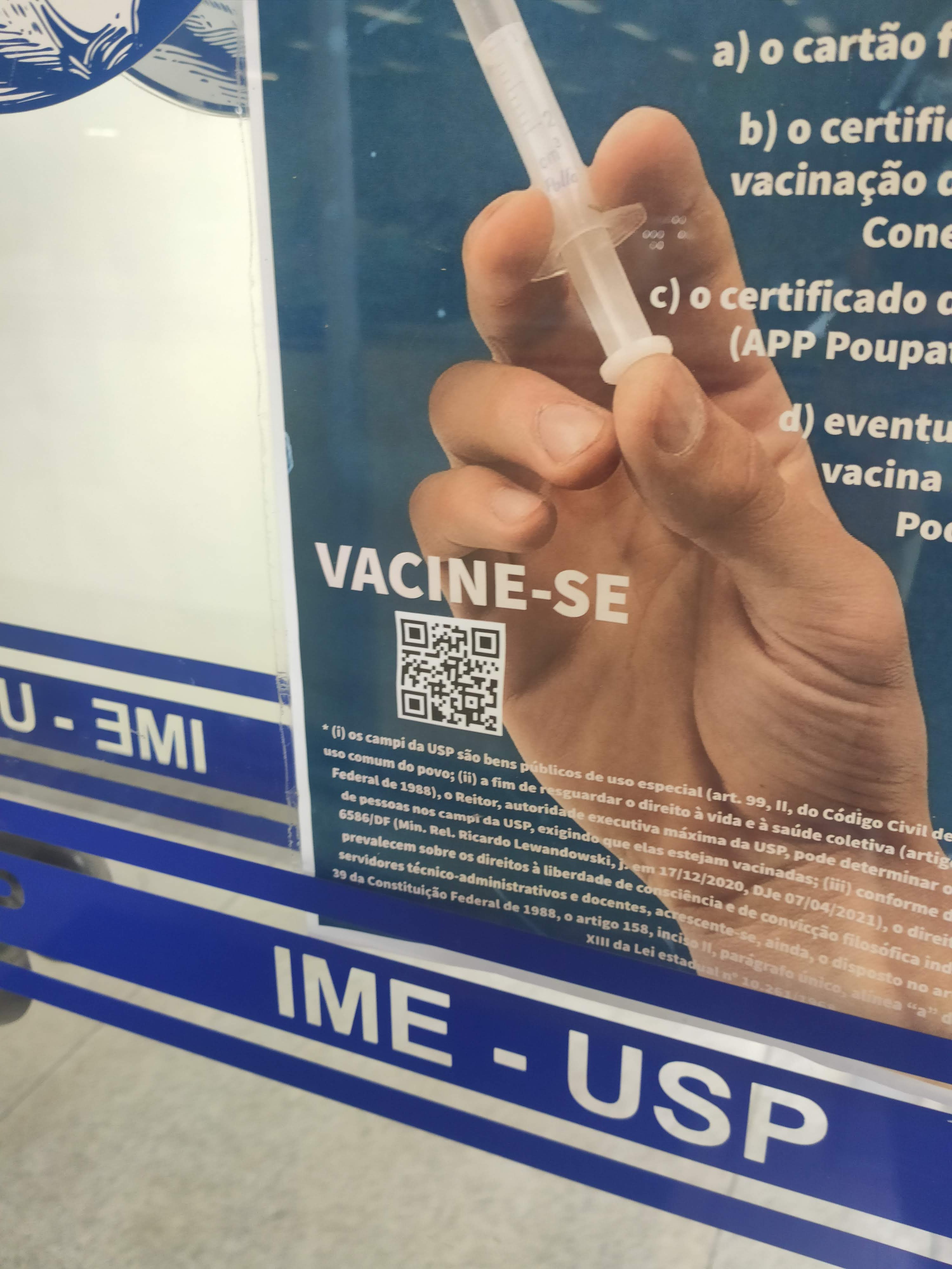QR-CODE: (402, 619, 499, 731)
